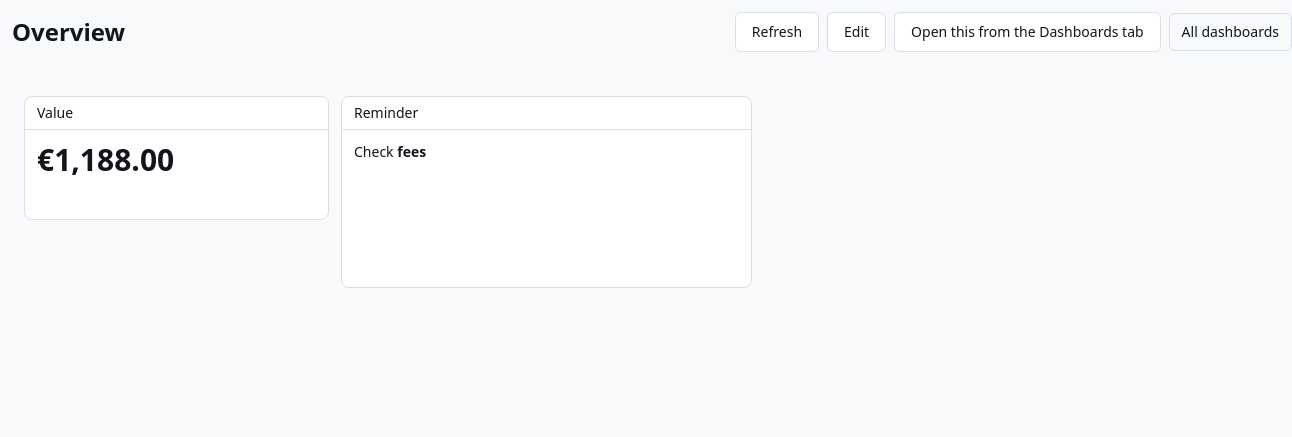
Test: copying a widget and removing filter bars (edit mode) › opens a dashboard saved without its filter bars without them, and offers them back only when editing
The image size is (1292, 437).
Expected: the text "€1,188.00" is shown, [37,139,174,180]
Expected: the text "Timeframe filter removed." is not shown
Click the button "Edit": (857, 32) [827,12,886,52]
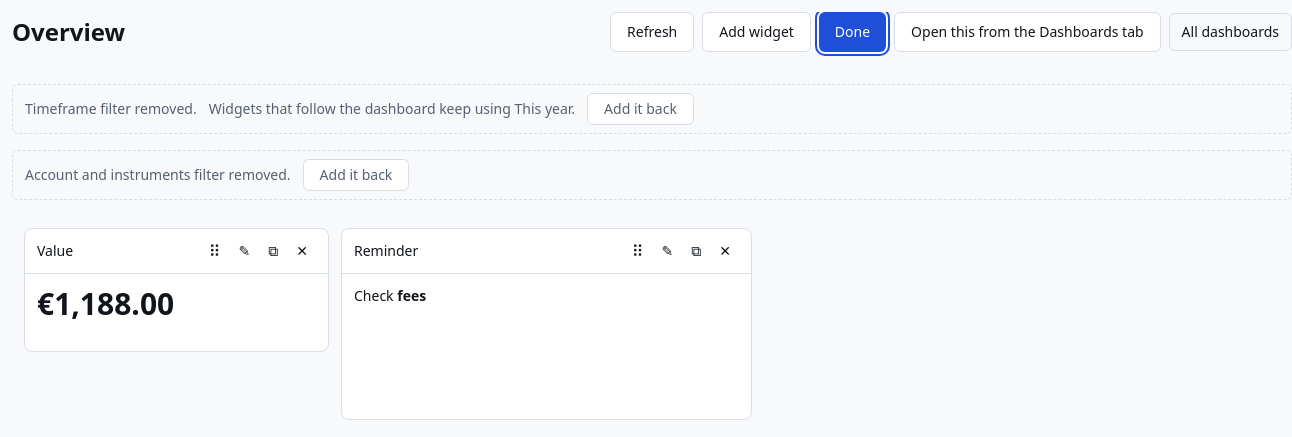
Now the text "Timeframe filter removed." is shown, box [25,99,197,119]
Now the text "Account and instruments filter removed." is shown, box [25,165,291,185]
